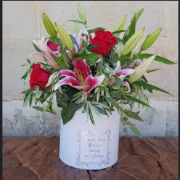RedRose: (23, 60, 52, 94), (89, 26, 118, 60)
